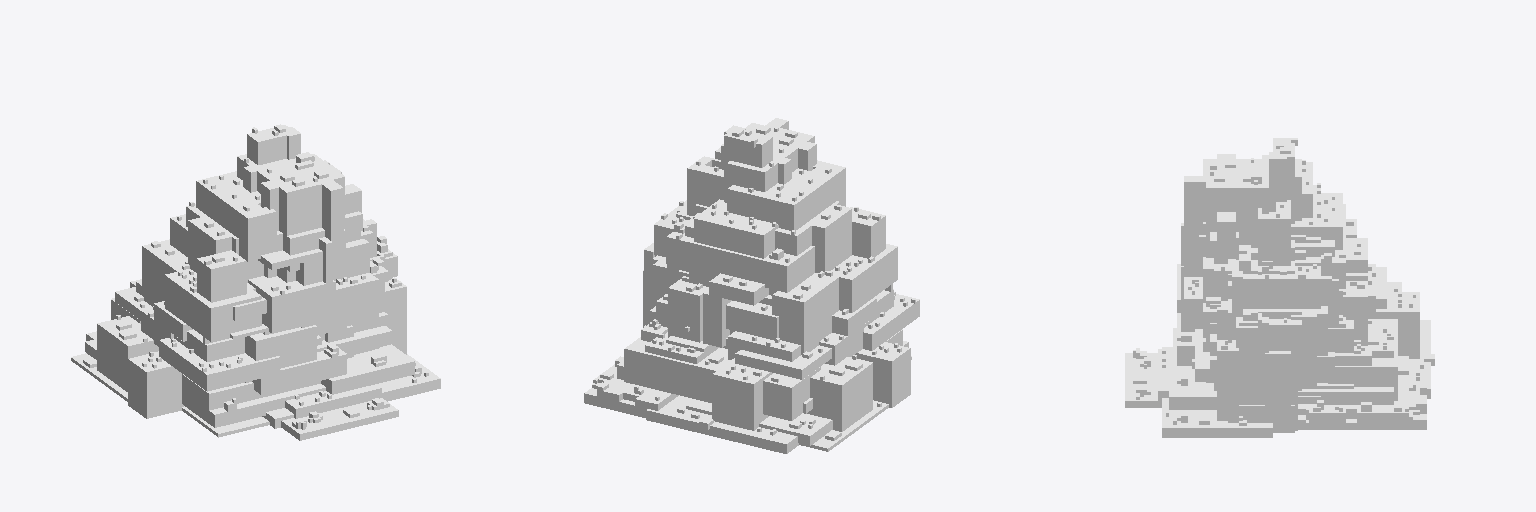
The model's file is Hospital-27.obj.
3 views of the same model, side by side, from view 1: azimuth 30°, elevation 25°; view 2: azimuth 150°, elevation 25°; view 3: azimuth 270°, elevation 25° (orthographic).
Parts seen in each view (by area): view 1: object 1; view 2: object 1; view 3: object 1.
Boxes of the visible parts, x1,y1,x2,y2 form: object 1: [71, 124, 440, 440]; object 1: [584, 118, 919, 453]; object 1: [1125, 138, 1434, 437].
Size of the model in its own units: 7.9 by 7.2 by 8.4.